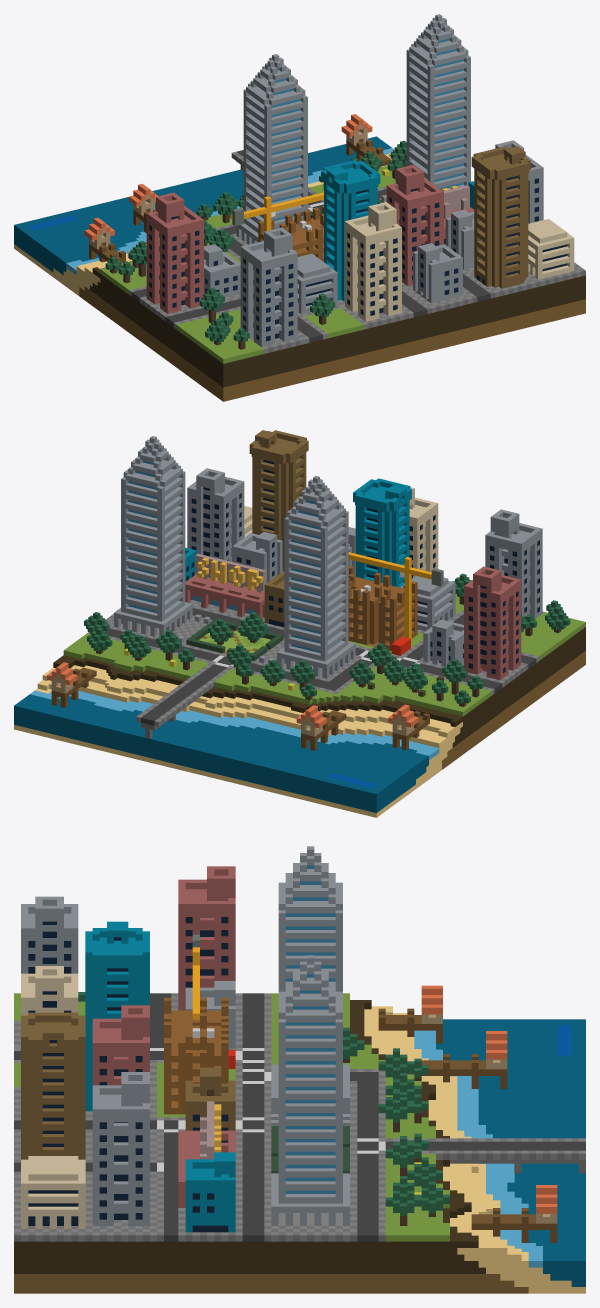
Rendered from city_on_the_beach.glb.
The picture shows the model from 3 angles, top to bottom: view 1: azimuth 30°, elevation 25°; view 2: azimuth 150°, elevation 25°; view 3: azimuth 270°, elevation 25°; orthographic projection. The views are drawn at different scales.
Visible parts, largest first — view 1: Object_2; view 2: Object_2; view 3: Object_2.
Part boxes in pixels (x1=…): Object_2: x1=14, y1=14, x2=585, y2=401; Object_2: x1=14, y1=430, x2=585, y2=817; Object_2: x1=14, y1=846, x2=585, y2=1293.
Size of the model in its own units: 80 by 48 by 80.
Materials: 1 (1 with a texture image).
